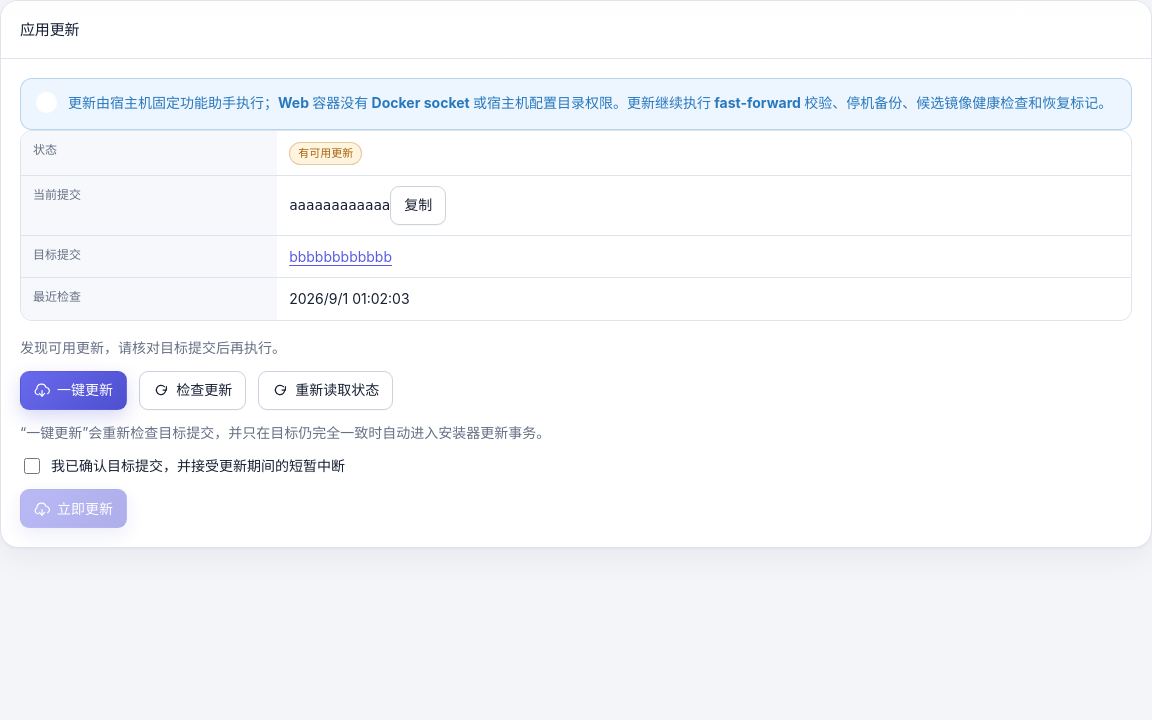
application update panel › shows exact revisions and requires explicit interruption confirmation
This screenshot has width=1152, height=720.
Expected: the button named "立即更新应用" is disabled, [20,490,127,528]
Click the text "我已确认目标提交，并接受更新期间的短暂中断": point(198, 466) [51,456,345,477]
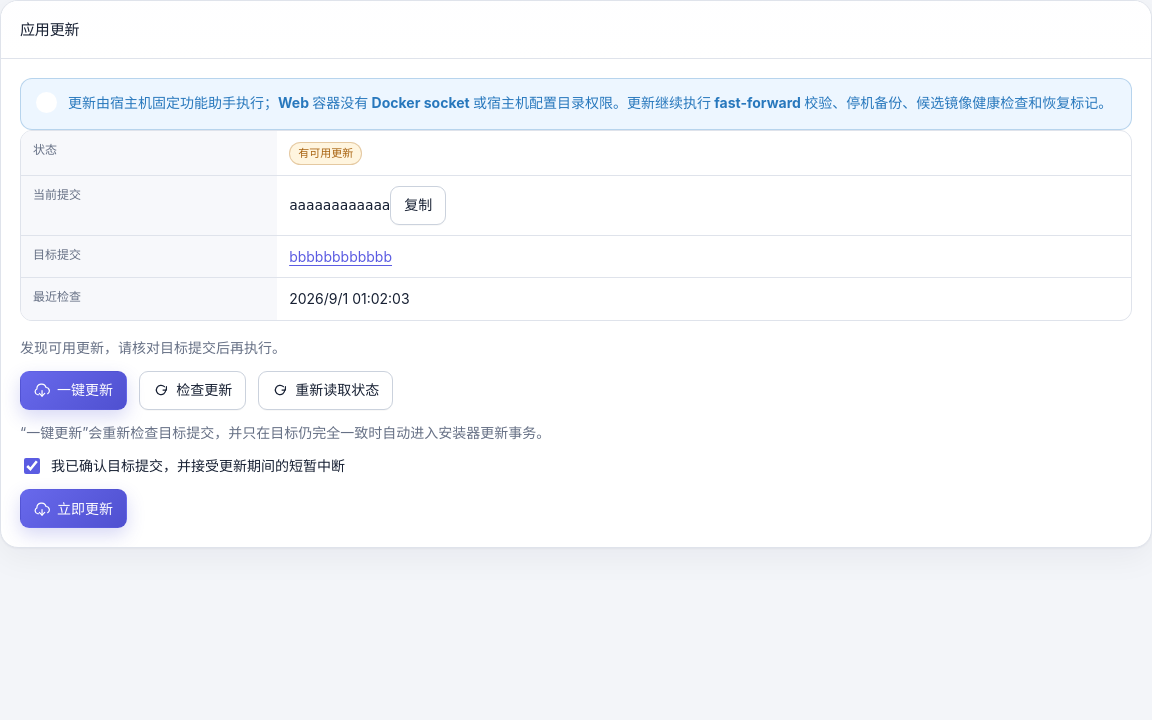
Result: the button named "立即更新应用" is enabled at [20,490,127,528]
